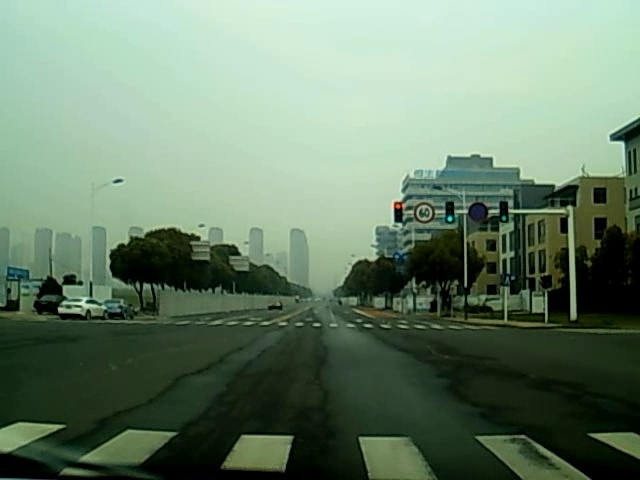Traffic_Light_go: (444, 204, 454, 225), (498, 203, 508, 223)
Traffic_Light_stop: (394, 202, 403, 221)
